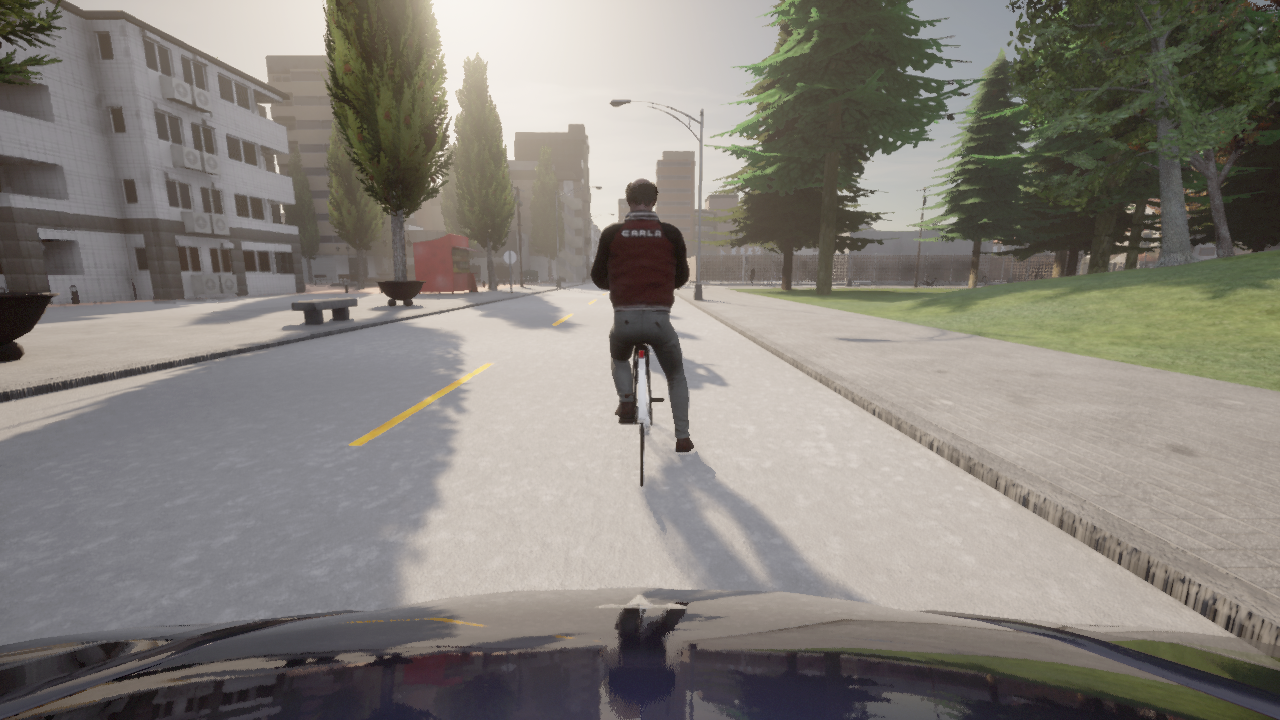cyclist: (0, 588, 1279, 719), (618, 343, 664, 486), (917, 275, 943, 286), (737, 272, 759, 279), (717, 268, 730, 278), (977, 278, 992, 286), (799, 269, 810, 279), (767, 272, 781, 279), (1037, 275, 1044, 279), (747, 275, 748, 278), (636, 354, 637, 355)
pedestrian: (749, 266, 755, 285), (550, 274, 553, 283)
